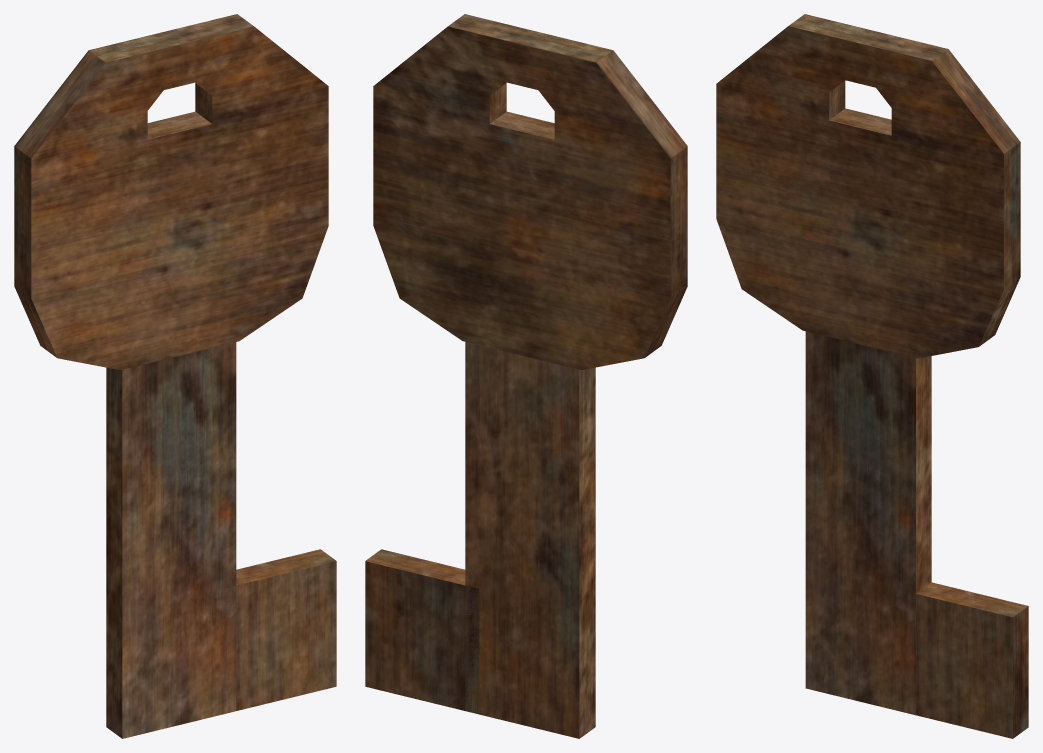
The model's file is Key.fbx.
The picture shows the model from 3 angles, left to right: view 1: azimuth 30°, elevation 25°; view 2: azimuth 150°, elevation 25°; view 3: azimuth 330°, elevation 25°; orthographic projection. The views are drawn at different scales.
Visible parts, largest first — view 1: pCube7; view 2: pCube7; view 3: pCube7.
Boxes of the visible parts, <box> form: pCube7: <box>14,14,336,738</box>; pCube7: <box>365,14,687,738</box>; pCube7: <box>716,14,1028,738</box>.
Size of the model in its own units: 10.37 by 22.06 by 1.
1 material, 1 textured.
